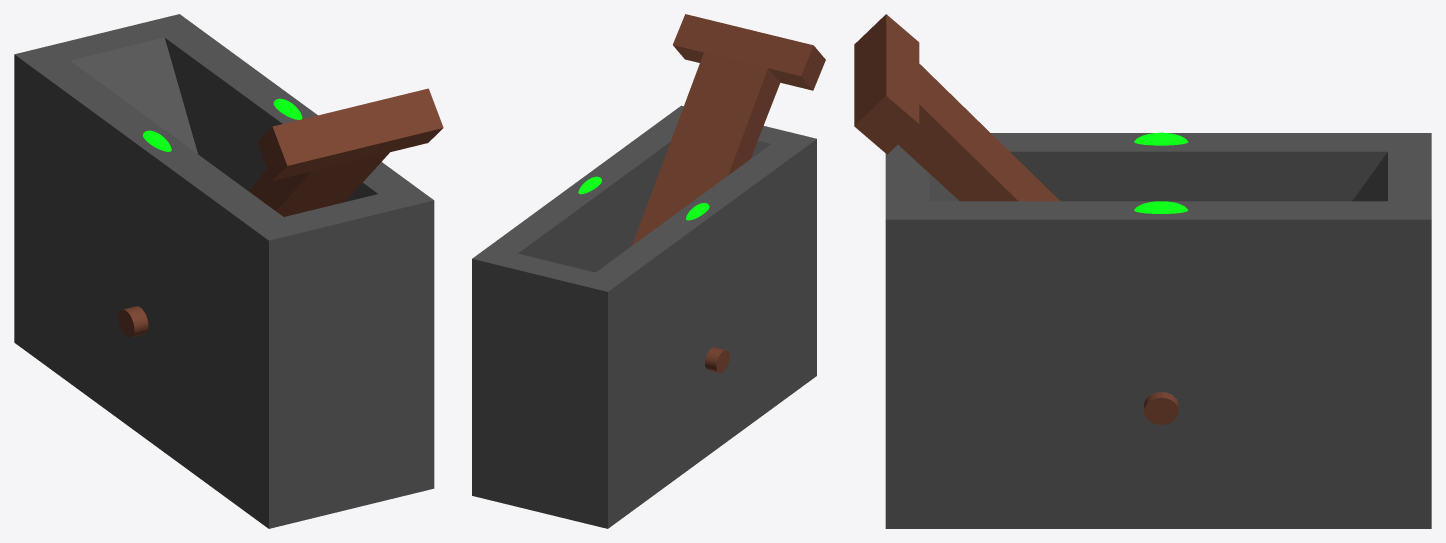
Rendered from Lever on.fbx.
3 views of the same model, side by side, from view 1: azimuth 30°, elevation 25°; view 2: azimuth 150°, elevation 25°; view 3: azimuth 270°, elevation 25° (orthographic). The views are drawn at different scales.
Parts seen in each view (by area): view 1: Cylinder; view 2: Cylinder; view 3: Cylinder.
Part boxes in pixels (x1,y1,x2,y2): Cylinder: [14, 14, 443, 528]; Cylinder: [472, 14, 825, 528]; Cylinder: [854, 14, 1431, 528].
Bounding box in the file's own units: 69.01 × 139 × 169.
